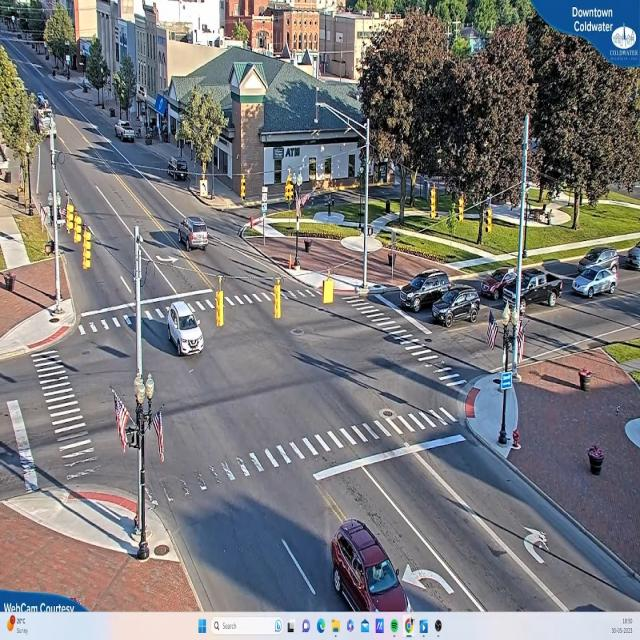car: (332, 518, 408, 612), (162, 295, 208, 371), (492, 271, 562, 307), (400, 272, 454, 314), (432, 290, 480, 327), (570, 266, 616, 298), (176, 213, 212, 250), (117, 122, 137, 145)
